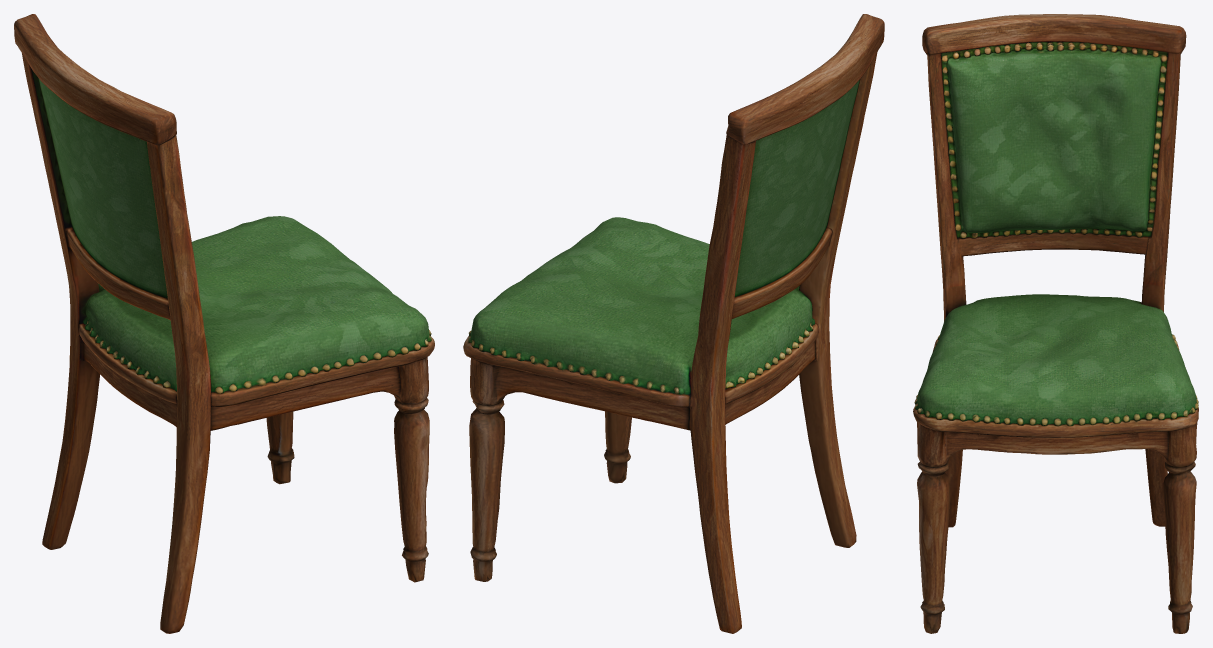
3 renders of one model, left to right at view 1: azimuth 30°, elevation 25°; view 2: azimuth 150°, elevation 25°; view 3: azimuth 270°, elevation 25°, orthographic. The views are drawn at different scales.
Visible parts, largest first — view 1: tripo_node_e6d0478a-2428-4c4a-8f4b-60b71b791ec5; view 2: tripo_node_e6d0478a-2428-4c4a-8f4b-60b71b791ec5; view 3: tripo_node_e6d0478a-2428-4c4a-8f4b-60b71b791ec5.
Boxes of the visible parts, x1,y1,x2,y2 form: tripo_node_e6d0478a-2428-4c4a-8f4b-60b71b791ec5: [14, 14, 434, 633]; tripo_node_e6d0478a-2428-4c4a-8f4b-60b71b791ec5: [463, 14, 884, 633]; tripo_node_e6d0478a-2428-4c4a-8f4b-60b71b791ec5: [913, 14, 1198, 633].
Bounding box in the file's own units: 0.626 × 1 × 0.528.
1 material, 1 textured.
